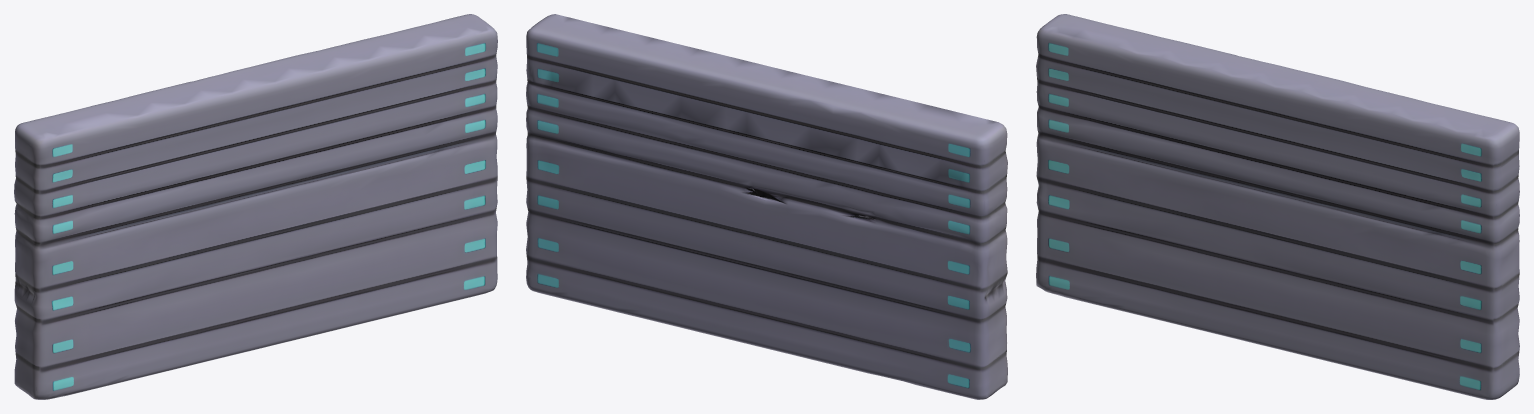
Rendered from Trigger Wall - B_texture.fbx.
The picture shows the model from 3 angles, left to right: view 1: azimuth 30°, elevation 25°; view 2: azimuth 150°, elevation 25°; view 3: azimuth 330°, elevation 25°; orthographic projection.
Parts seen in each view (by area): view 1: Mesh0; view 2: Mesh0; view 3: Mesh0.
Part boxes in pixels (x1,y1,x2,y2): Mesh0: [14, 14, 497, 399]; Mesh0: [526, 14, 1007, 399]; Mesh0: [1036, 14, 1519, 399].
Bounding box in the file's own units: 191 × 104 × 18.79.
1 material, 1 textured.
